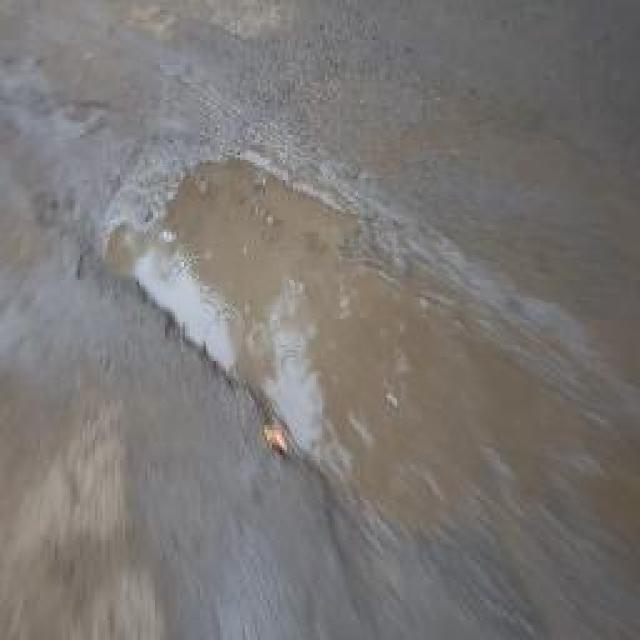puddle: (136, 164, 467, 462)
